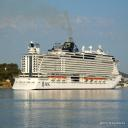cruises: (12, 37, 123, 92)
